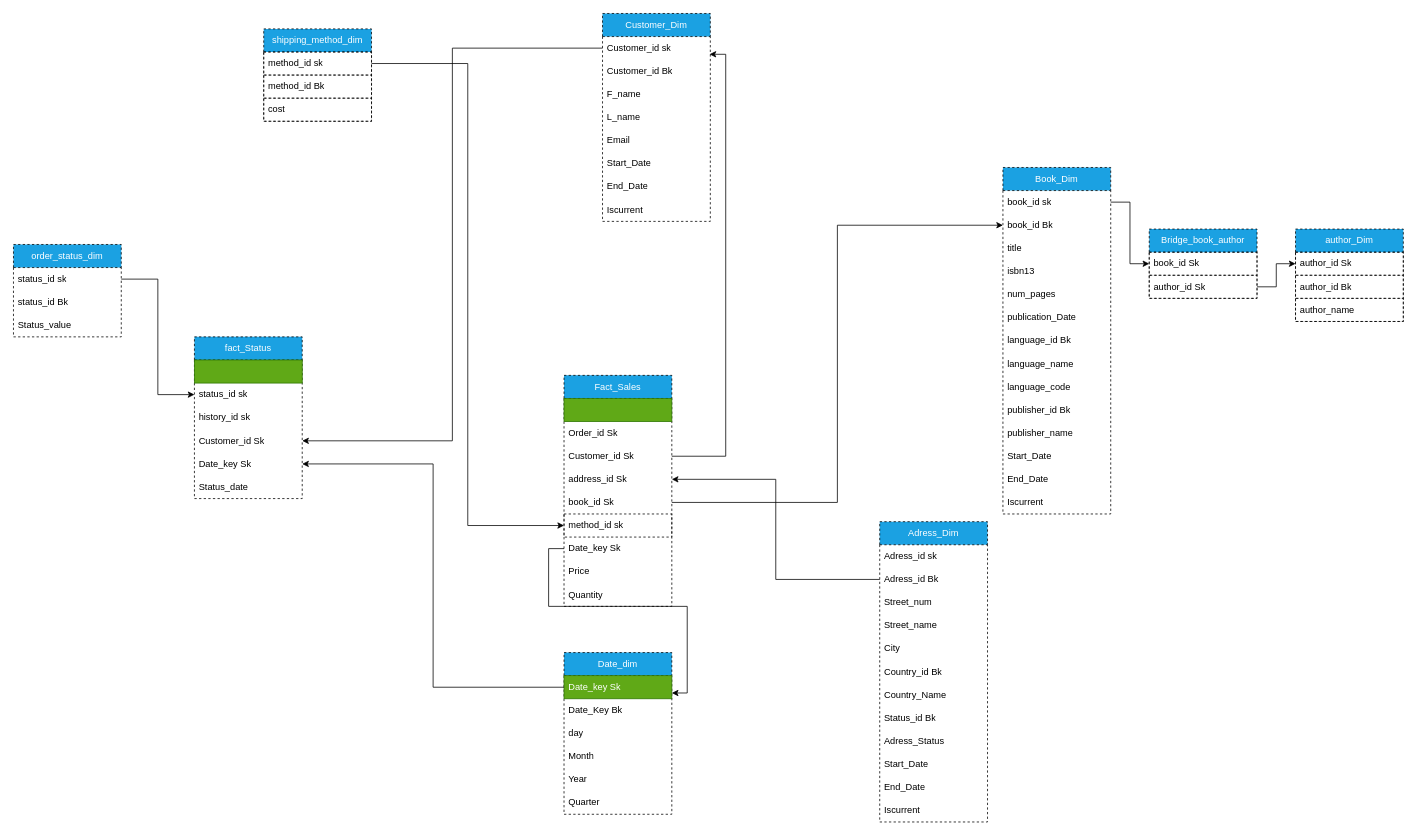
This 1417x835 diagram has some shape labels left out. The centre of each missing label's shape, as x and y in pixels:
record_id Pk: point (617, 410)
status_key Pk: point (248, 371)
